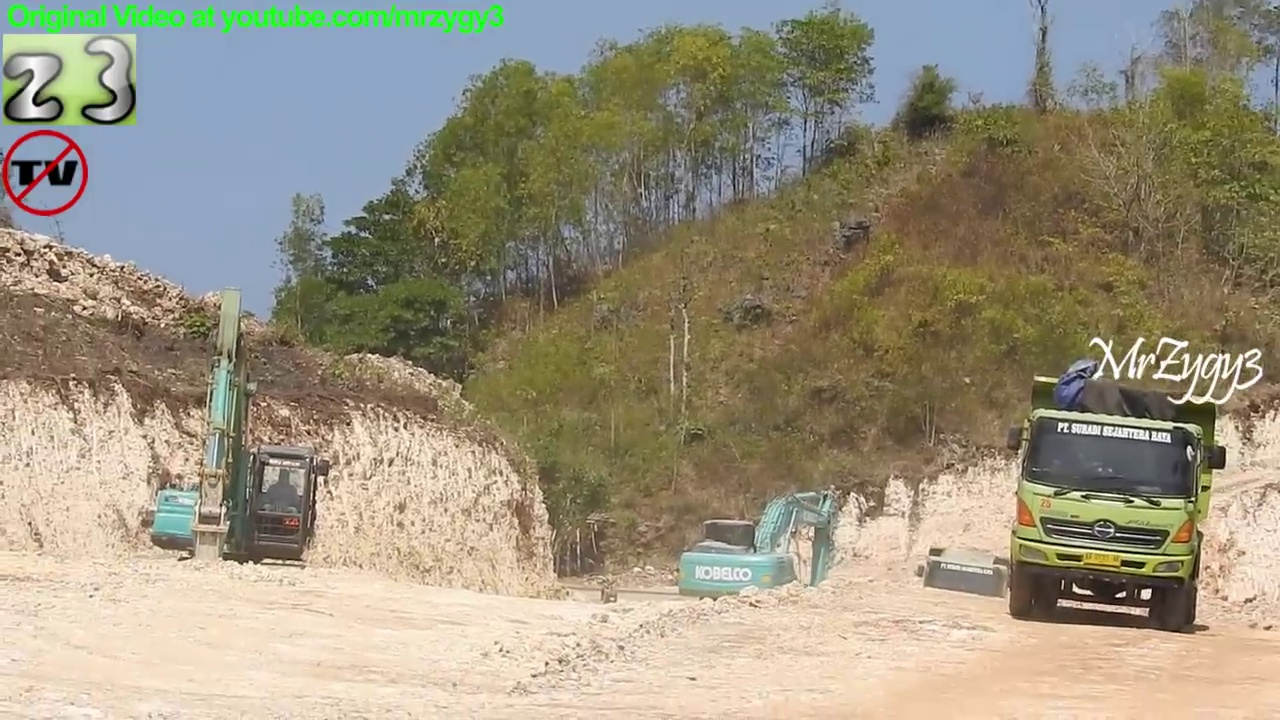excavator: (144, 282, 336, 619), (672, 479, 854, 634)
truck: (1002, 371, 1233, 640), (912, 543, 1027, 652)
